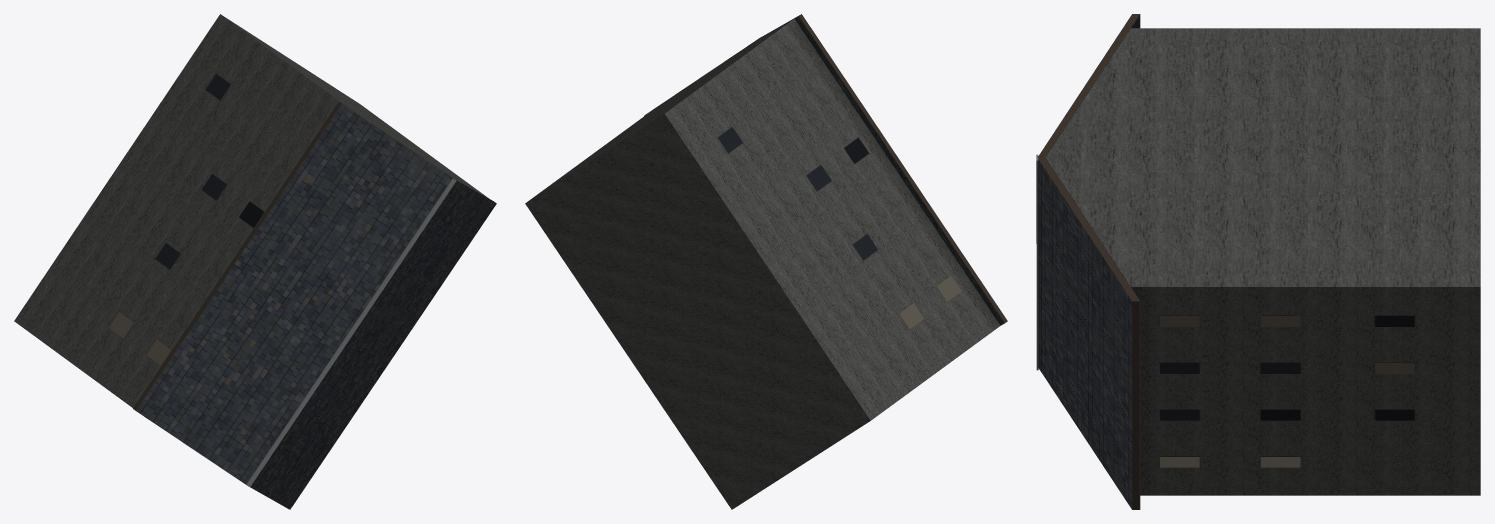
Rendered from house_b0245.obj.
3 renders of one model, left to right at view 1: azimuth 30°, elevation 25°; view 2: azimuth 150°, elevation 25°; view 3: azimuth 270°, elevation 25°, orthographic. The views are drawn at different scales.
Parts seen in each view (by area): view 1: house_b0245; view 2: house_b0245; view 3: house_b0245.
Boxes of the visible parts, x1,y1,x2,y2 form: house_b0245: [14, 14, 496, 509]; house_b0245: [525, 14, 1007, 509]; house_b0245: [1036, 14, 1480, 509].
Bounding box in the file's own units: 16.71 × 17.41 × 13.23.
Materials: 1 (1 with a texture image).
